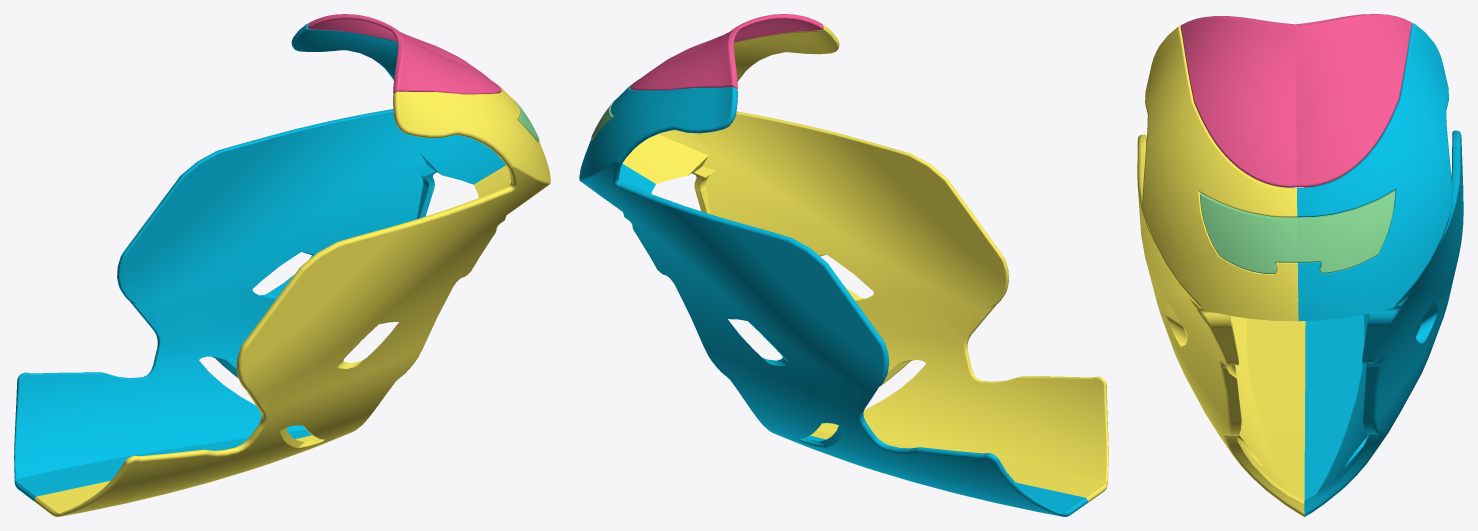
File: side_fairings.glb
The picture shows the model from 3 angles, left to right: view 1: azimuth 30°, elevation 25°; view 2: azimuth 150°, elevation 25°; view 3: azimuth 270°, elevation 25°; orthographic projection. The views are drawn at different scales.
Parts seen in each view (by area): view 1: User Library-racing bike_racing bike.sldasm-Part-47-1, User Library-racing bike_racing bike.sldasm-Part-46-1, User Library-racing bike_racing bike.sldasm-Part-23-1; view 2: User Library-racing bike_racing bike.sldasm-Part-46-1, User Library-racing bike_racing bike.sldasm-Part-47-1, User Library-racing bike_racing bike.sldasm-Part-23-1; view 3: User Library-racing bike_racing bike.sldasm-Part-47-1, User Library-racing bike_racing bike.sldasm-Part-46-1, User Library-racing bike_racing bike.sldasm-Part-23-1, User Library-racing bike_racing bike.sldasm-Part-24-1.
Boxes of the visible parts, bbox=[...] form: User Library-racing bike_racing bike.sldasm-Part-47-1: bbox=[14, 23, 505, 501]; User Library-racing bike_racing bike.sldasm-Part-46-1: bbox=[34, 85, 550, 516]; User Library-racing bike_racing bike.sldasm-Part-23-1: bbox=[307, 14, 501, 94]; User Library-racing bike_racing bike.sldasm-Part-46-1: bbox=[622, 24, 1108, 502]; User Library-racing bike_racing bike.sldasm-Part-47-1: bbox=[579, 84, 1087, 516]; User Library-racing bike_racing bike.sldasm-Part-23-1: bbox=[630, 14, 823, 90]; User Library-racing bike_racing bike.sldasm-Part-47-1: bbox=[1297, 23, 1463, 516]; User Library-racing bike_racing bike.sldasm-Part-46-1: bbox=[1137, 26, 1305, 516]; User Library-racing bike_racing bike.sldasm-Part-23-1: bbox=[1180, 14, 1411, 187]; User Library-racing bike_racing bike.sldasm-Part-24-1: bbox=[1200, 190, 1395, 274].
Bounding box in the file's own units: 0.0857 × 0.0654 × 0.0373.
